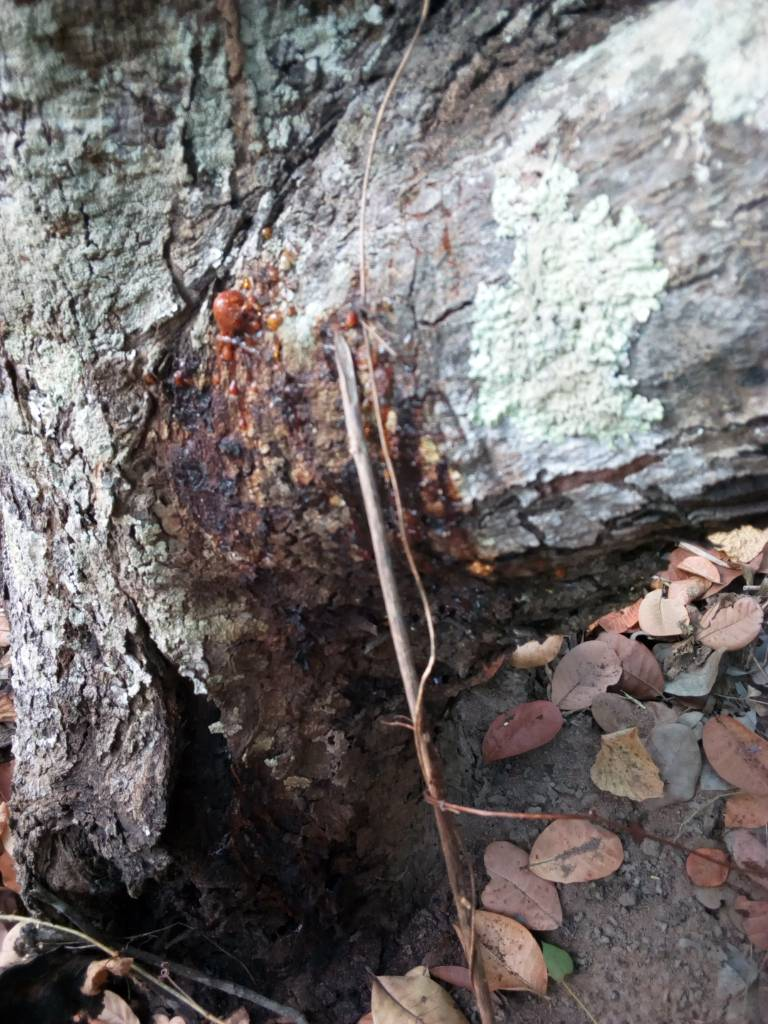Gommose: (171, 292, 457, 686)
